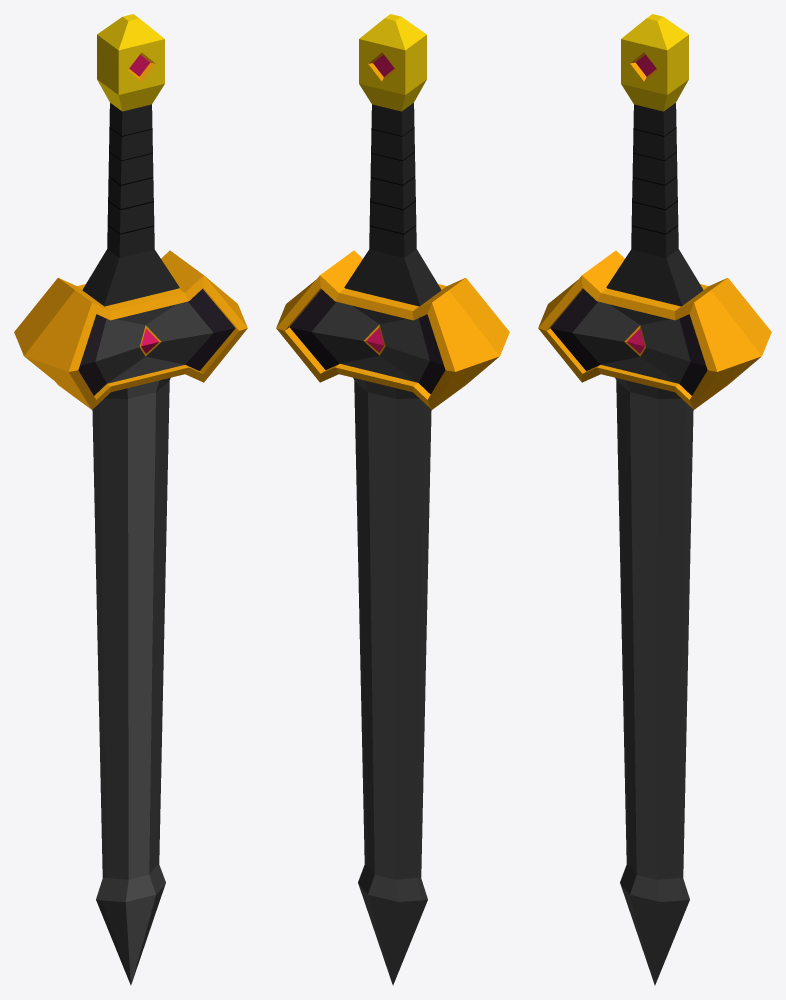
File: LowPoly_Sword.fbx
3 views of the same model, side by side, from view 1: azimuth 30°, elevation 25°; view 2: azimuth 150°, elevation 25°; view 3: azimuth 330°, elevation 25° (orthographic).
Parts seen in each view (by area): view 1: Blade, CrossGuard, Handle; view 2: Blade, CrossGuard, Handle; view 3: Blade, CrossGuard, Handle.
Part boxes in pixels (x1,y1,x2,y2): Blade: [92, 377, 170, 985]; CrossGuard: [14, 250, 247, 409]; Handle: [82, 14, 179, 306]; Blade: [353, 377, 431, 985]; CrossGuard: [276, 250, 509, 409]; Handle: [344, 14, 441, 306]; Blade: [615, 377, 693, 985]; CrossGuard: [538, 250, 771, 409]; Handle: [606, 14, 703, 306].
Size of the model in its own units: 0.395 by 1.71 by 0.1782.
